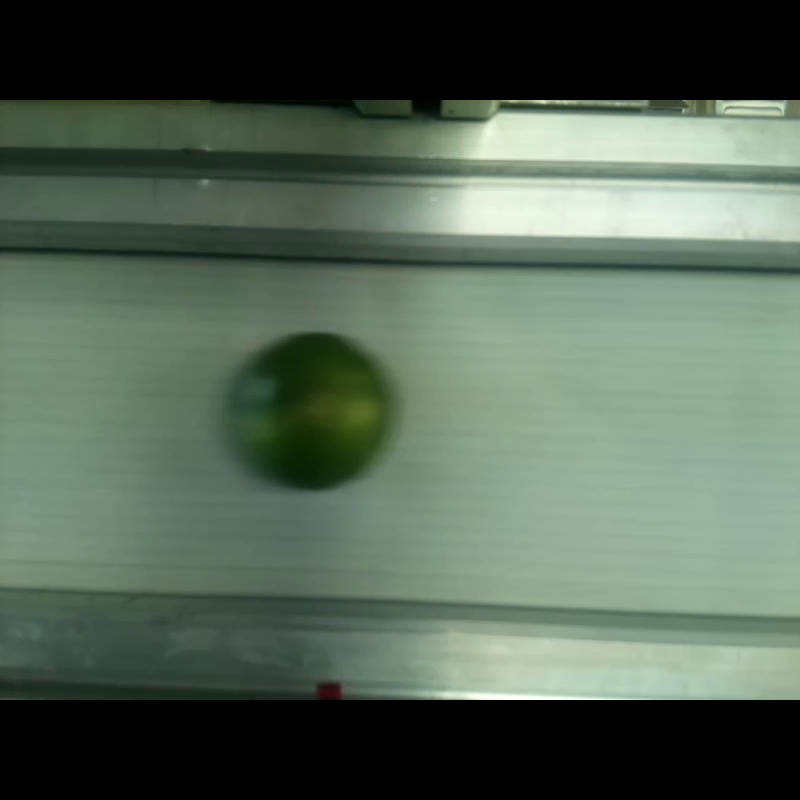lime: (234, 334, 387, 493)
